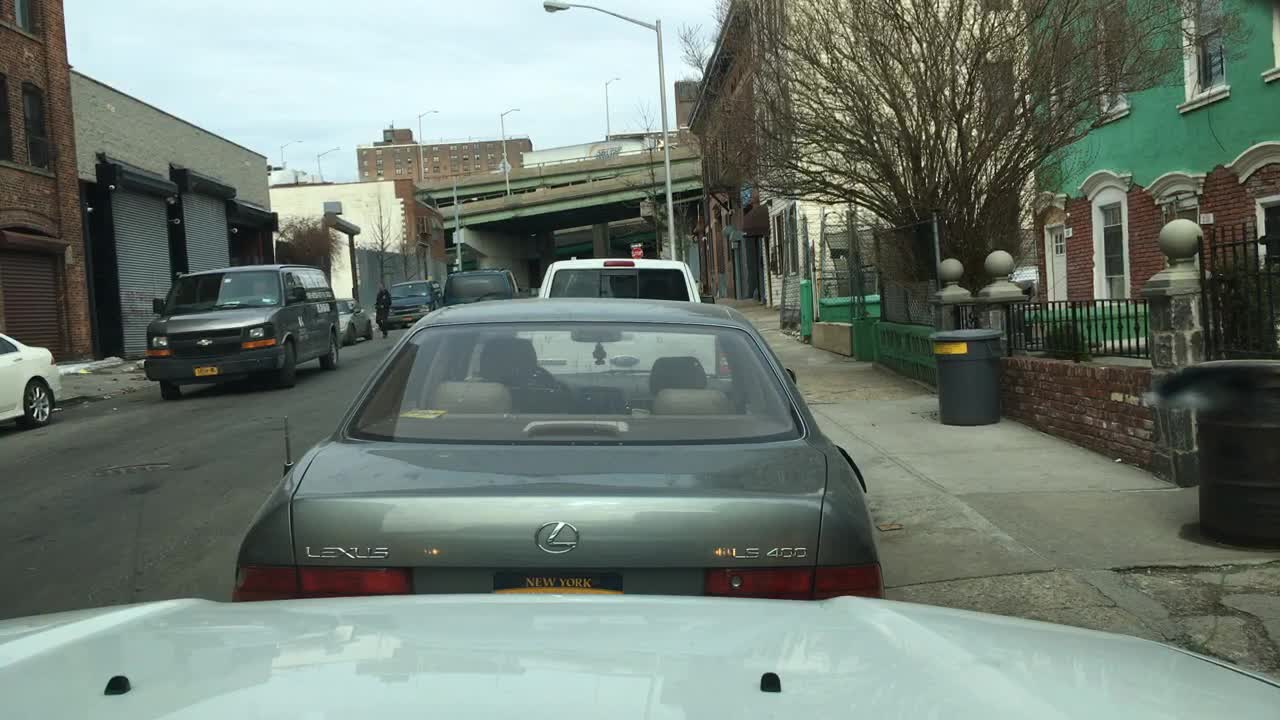car: (231, 294, 888, 604), (141, 260, 339, 401), (535, 255, 700, 305), (0, 331, 63, 427), (440, 266, 517, 309), (387, 278, 446, 329), (332, 296, 374, 347)
person: (374, 280, 392, 341)
traffic sign: (630, 245, 643, 255)
